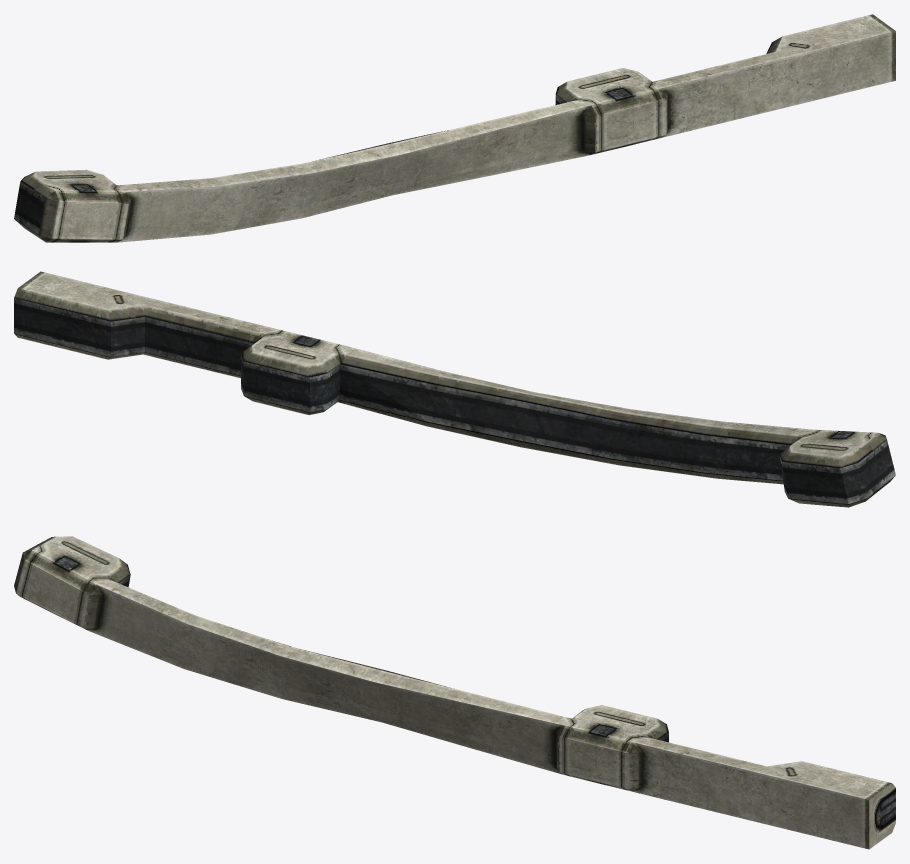
File: catwalk_white_piece_04.dae
3 views of the same model, one above another, from view 1: azimuth 30°, elevation 25°; view 2: azimuth 150°, elevation 25°; view 3: azimuth 330°, elevation 25° (orthographic).
Parts seen in each view (by area): view 1: side1; view 2: side1; view 3: side1.
Part boxes in pixels (<box>): side1: <box>14,14,895,242</box>; side1: <box>14,271,895,507</box>; side1: <box>14,536,895,849</box>.
Bounding box in the file's own units: 3.16 × 0.3332 × 0.2705.
